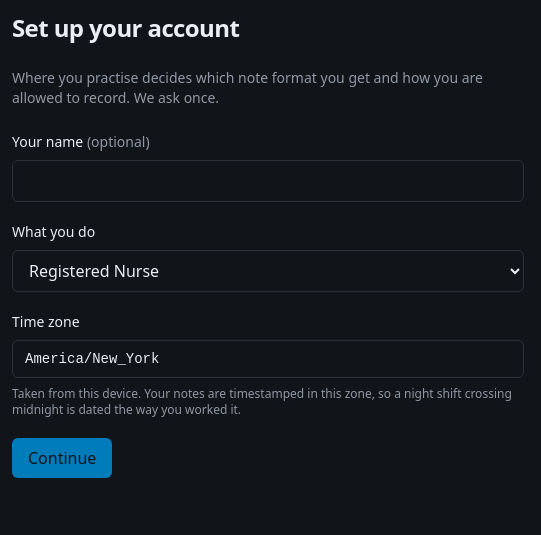
Test: Onboarding › keeps the user on the form when the save fails
The image size is (541, 535).
Select "Registered Nurse" in the dropdown labelled "What you do": (268, 271) x1=12 y1=250 x2=524 y2=292
Click the button "Continue": (62, 458) x1=12 y1=438 x2=112 y2=478
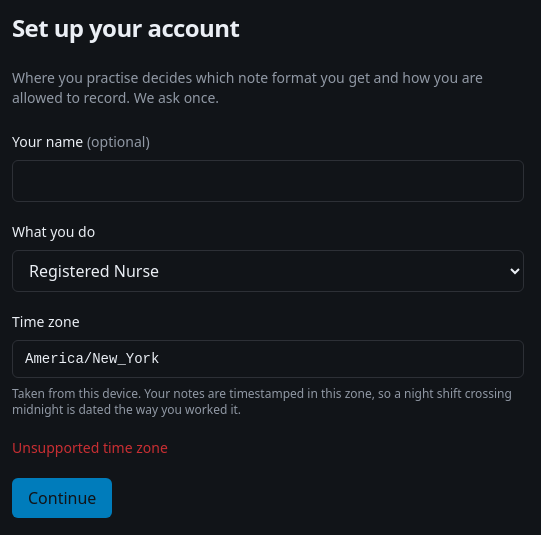
Check: the text "Unsupported time zone" is shown, box x1=12 y1=438 x2=168 y2=457
